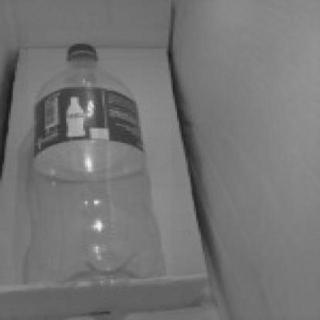plastic_bottles: (28, 31, 172, 285)
